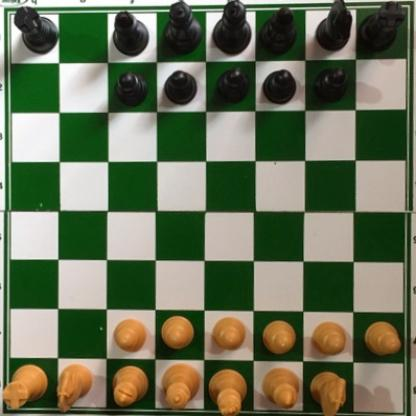black-bishop: (257, 7, 298, 56), (111, 11, 152, 57)
black-king: (212, 1, 253, 55)
black-knight: (315, 1, 354, 53)
black-pawn: (110, 70, 149, 107), (162, 69, 199, 108), (313, 67, 349, 106), (217, 68, 251, 107), (263, 69, 297, 105)
black-queen: (165, 1, 203, 58)
black-rook: (358, 1, 406, 54), (12, 6, 59, 57)
white-bishop: (111, 361, 151, 414), (264, 365, 304, 414)
white-king: (207, 366, 250, 416)
white-knight: (56, 361, 93, 416), (310, 369, 347, 416)
white-pawn: (261, 318, 299, 357), (363, 320, 403, 357), (210, 315, 247, 353), (160, 314, 195, 351), (113, 318, 147, 353), (311, 322, 347, 355)
white-queen: (159, 362, 202, 414)
white-rook: (1, 361, 49, 411)
